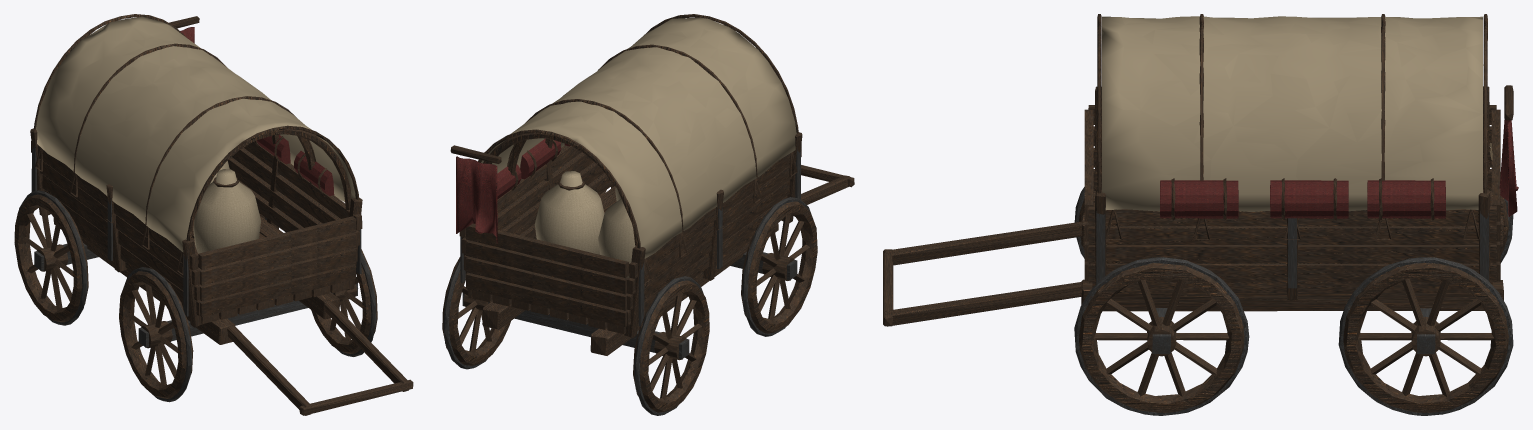
Rendered from barrosan_covered_supply_wagon_lod1.glb.
3 views of the same model, side by side, from view 1: azimuth 30°, elevation 25°; view 2: azimuth 150°, elevation 25°; view 3: azimuth 270°, elevation 25° (orthographic). The views are drawn at different scales.
Parts seen in each view (by area): view 1: barrosan_covered_supply_wagon; view 2: barrosan_covered_supply_wagon; view 3: barrosan_covered_supply_wagon.
Part boxes in pixels (x1,y1,x2,y2): barrosan_covered_supply_wagon: (14, 14, 413, 415); barrosan_covered_supply_wagon: (442, 14, 854, 415); barrosan_covered_supply_wagon: (883, 14, 1518, 415).
Bounding box in the file's own units: 2.39 × 2.85 × 4.91.
Materials: 5 (4 with a texture image).
